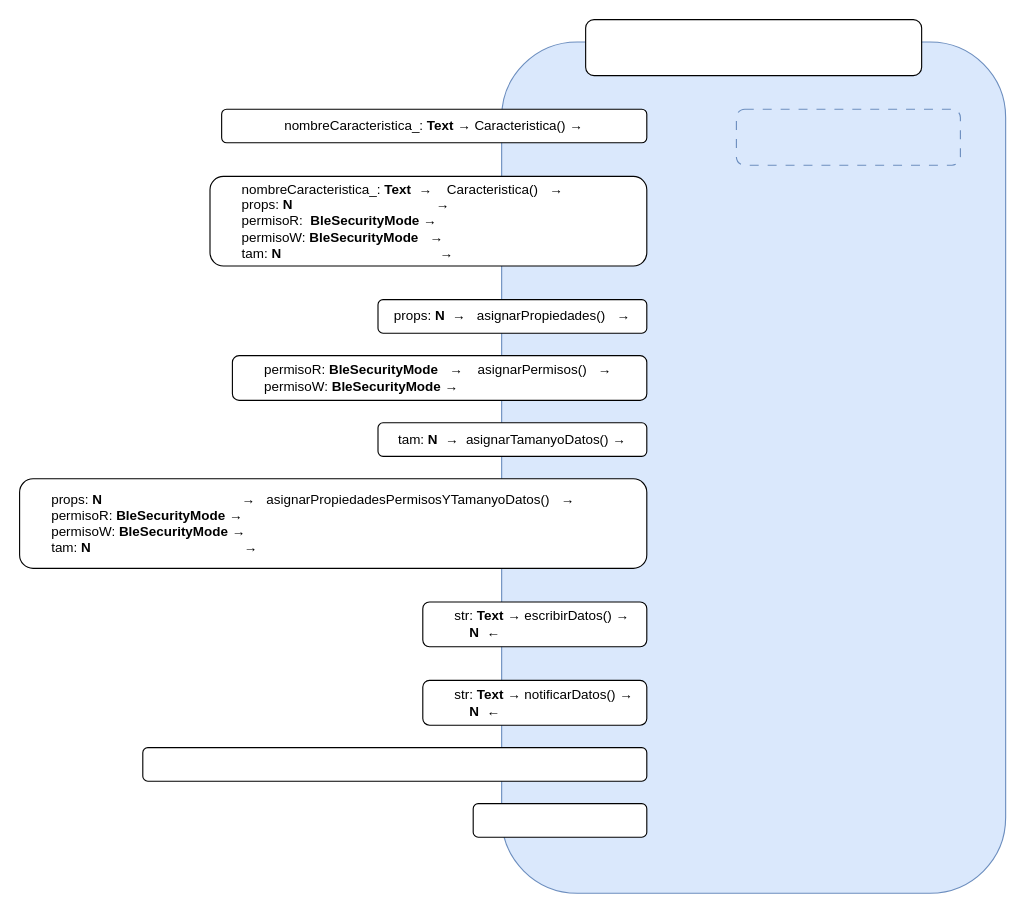
Image size: 1026x913. Some labels were removed from this diagram. Each missing label, with the box of its shape:
activar() →: (472, 802, 647, 837)
cb: CallbackCaracteristicaEscrita → instalarCallbackCaracteristicaEscrita() →: (142, 746, 647, 781)
ServicioEnEmisora::Caracteristica: (585, 18, 922, 76)
uuidCaracteristica: [N]_16 laCaracteristica: BLECharacteristic: (735, 108, 960, 165)
